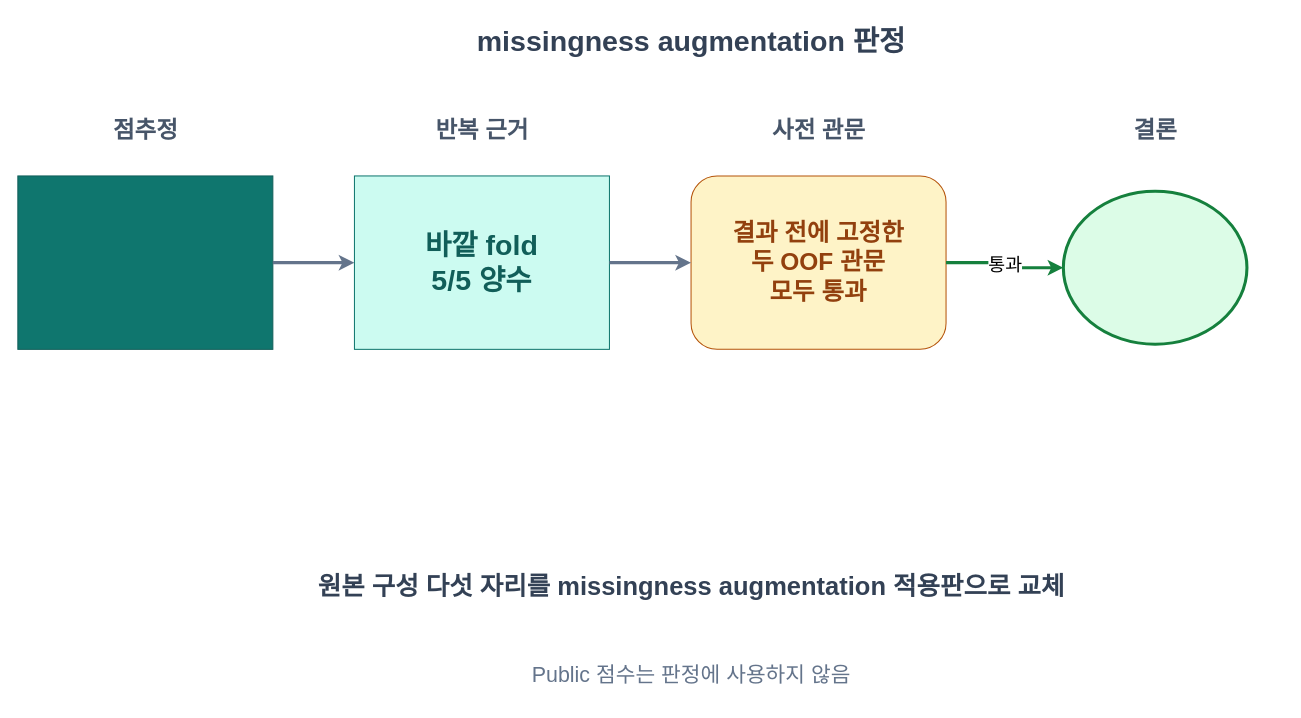
This 1301x718 diagram has some shape labels left out. The box of each missing label's shape, as (x1, y1, x2, y2) in pixels:
nested OOF AUC 차이 +0.0000469: (17, 175, 273, 349)
채택: (1061, 189, 1248, 345)
